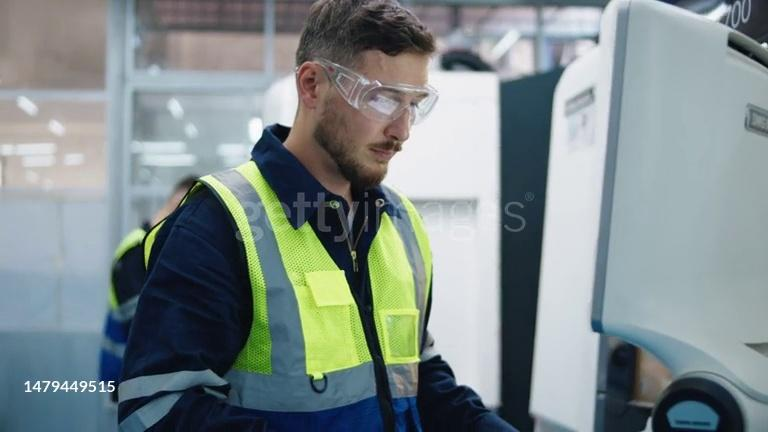person: (113, 0, 524, 432), (96, 172, 211, 386)
